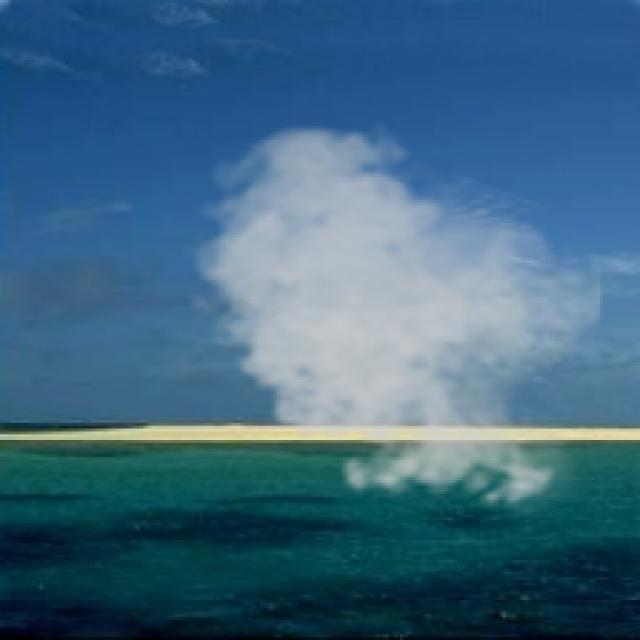smoke: (180, 117, 606, 520)
